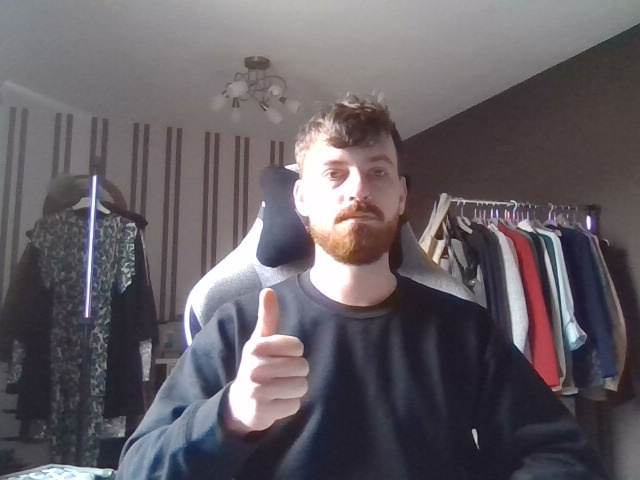Thumbs Up: (228, 281, 320, 441)
